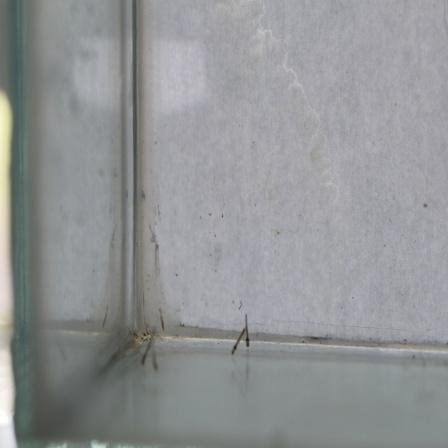Jentik-Nyamuk: (228, 312, 252, 359)
